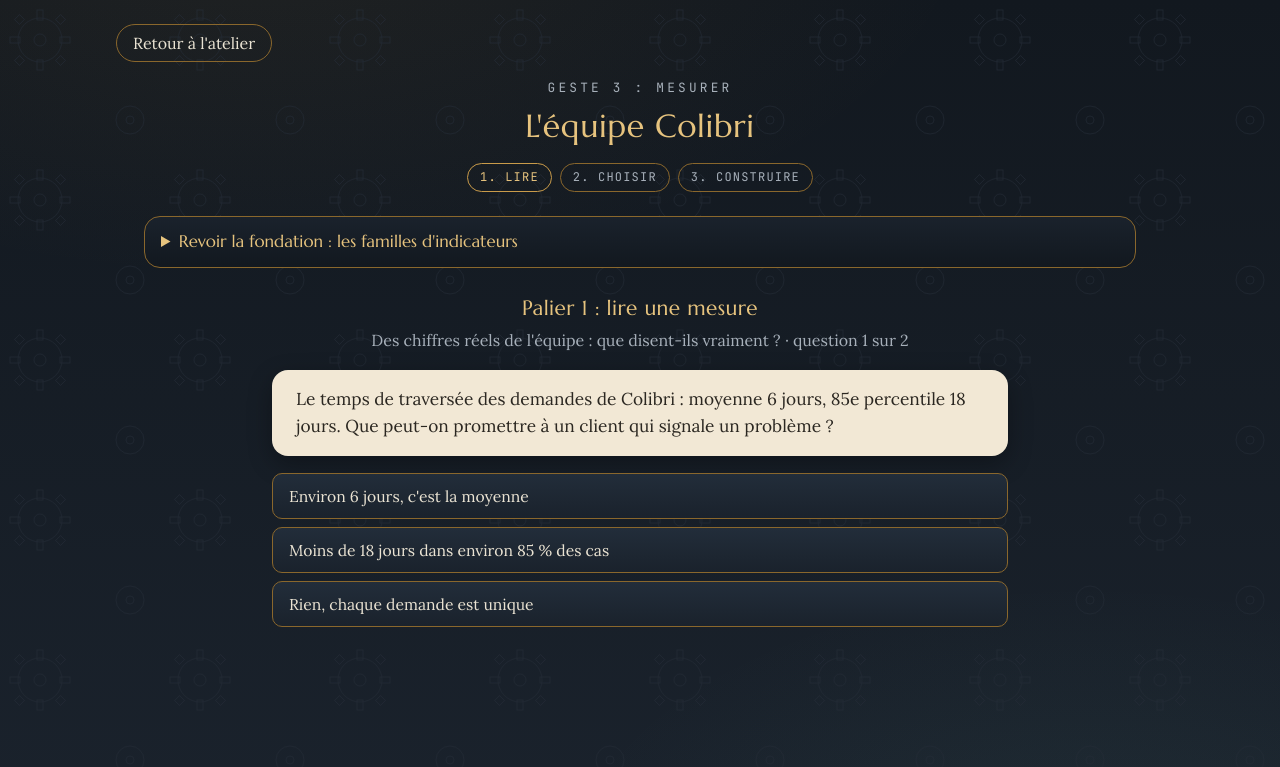
it: MeasureBoard › montre le feedback du corpus sur une mauvaise réponse
The width and height of the screenshot is (1280, 767).
Click the button "Environ 6 jours, c'est la moyenne" at (409, 496), box [272, 473, 1008, 519]
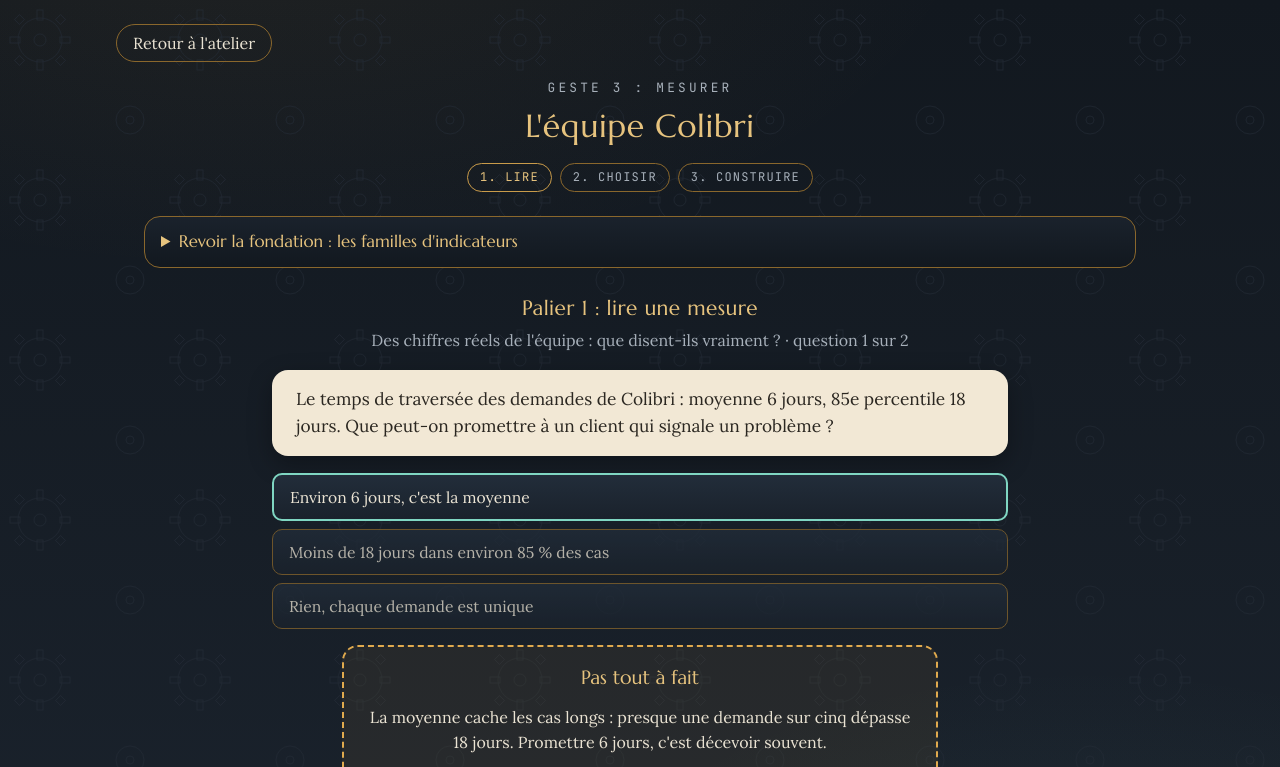
expect the text "Pas tout à fait" is shown: met, box [581, 665, 699, 689]
expect the text "La moyenne cache les cas longs : presque une demande sur cinq dépasse 18 jours. Promettre 6 jours, c'est décevoir souven" is shown: met, box [370, 707, 910, 752]
